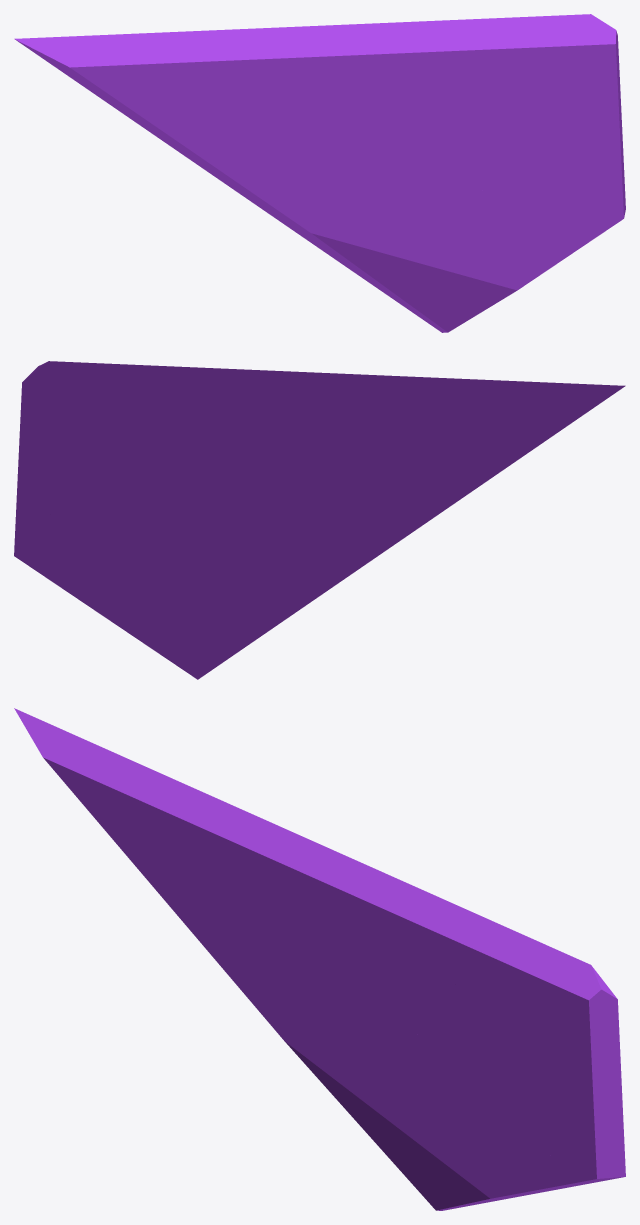
The model's file is Window_38_11_chunks.fbx.
3 views of the same model, one above another, from view 1: azimuth 30°, elevation 25°; view 2: azimuth 150°, elevation 25°; view 3: azimuth 330°, elevation 25° (orthographic).
Visible parts, largest first — view 1: Window_38_11_0, Window_38_11_2, Window_38_11_3, Window_38_11_1; view 2: Window_38_11_0, Window_38_11_1, Window_38_11_3, Window_38_11_2; view 3: Window_38_11_0, Window_38_11_2, Window_38_11_3, Window_38_11_1.
Boxes of the visible parts, <box> form: Window_38_11_0: <box>14,33,448,300</box>; Window_38_11_2: <box>440,14,624,227</box>; Window_38_11_3: <box>143,16,550,145</box>; Window_38_11_1: <box>384,180,625,332</box>; Window_38_11_0: <box>218,380,625,639</box>; Window_38_11_1: <box>14,476,256,679</box>; Window_38_11_3: <box>89,363,497,496</box>; Window_38_11_2: <box>15,361,179,524</box>; Window_38_11_0: <box>14,708,421,1155</box>; Window_38_11_2: <box>413,947,624,1181</box>; Window_38_11_3: <box>143,765,550,1015</box>; Window_38_11_1: <box>387,1056,625,1210</box>.
Bounding box in the file's own units: 711 × 443 × 27.2.
